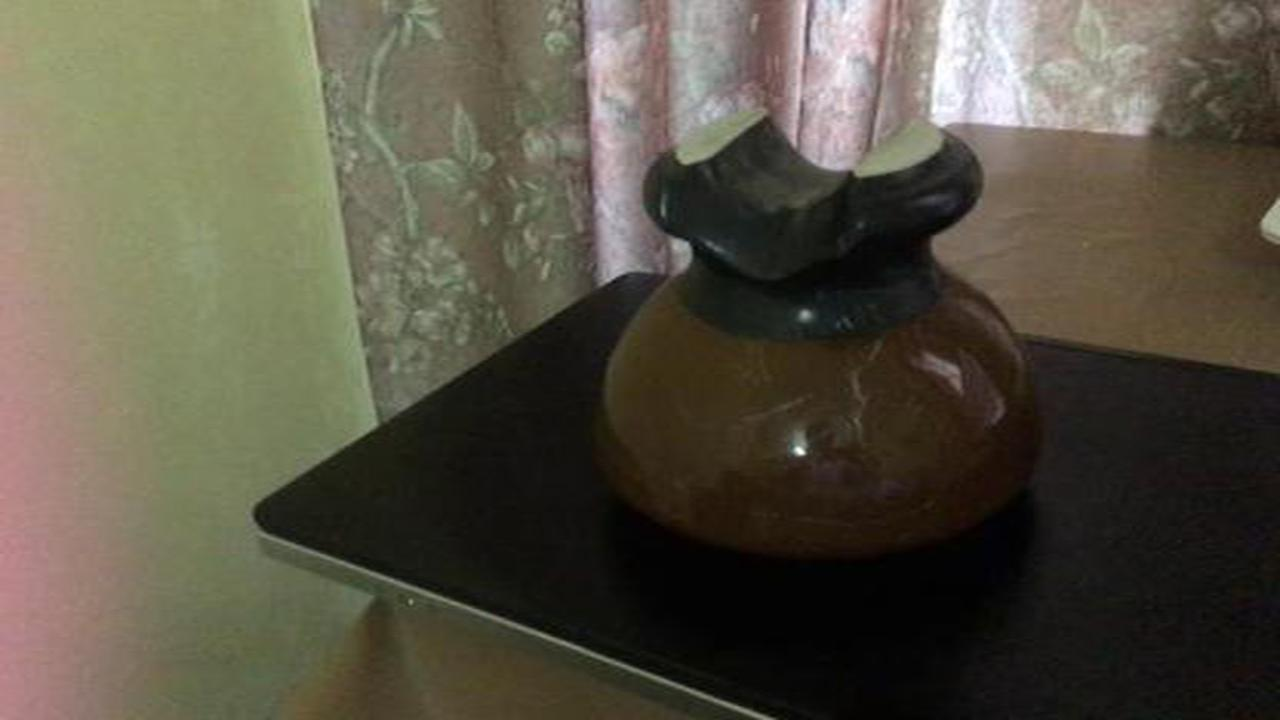insulator_pin: (582, 96, 1059, 584)
